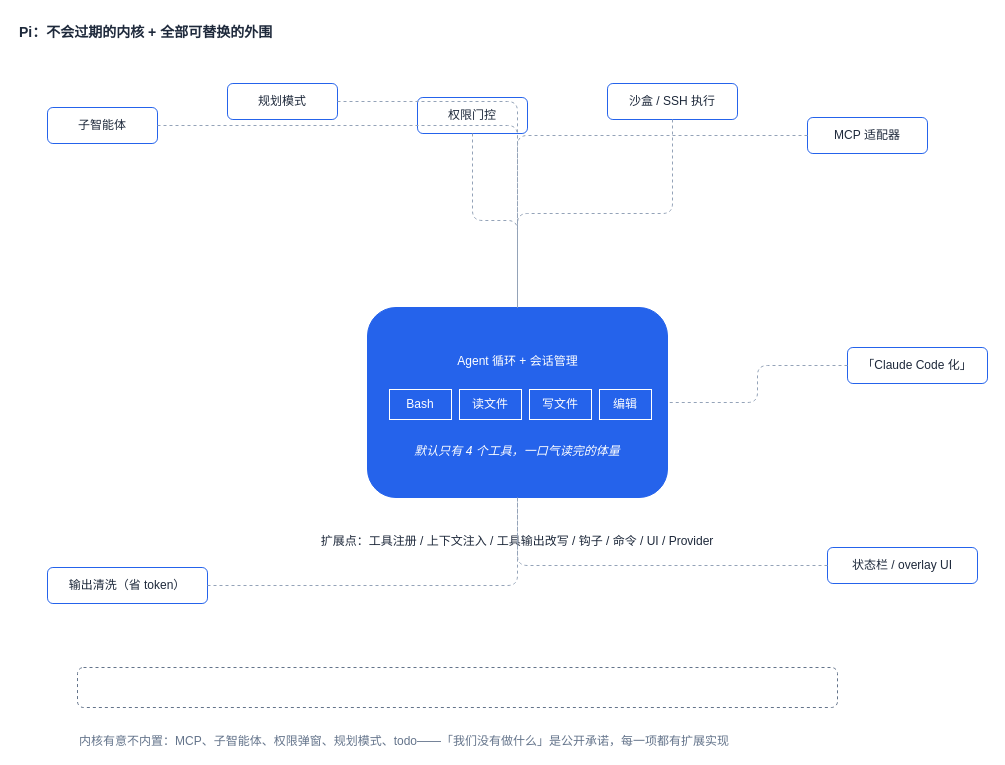
Some shapes in this 1005 by 765 pixel diagram are drawn without their labels. Here are the shapes that lost their labels. From the top down, the box of each, then its label:
(366, 306, 668, 498): 内核
(76, 666, 838, 708): Pi Packages：扩展 + Skills + 模板 + 主题打包，pi install npm:xxx / git: 一条命令装
